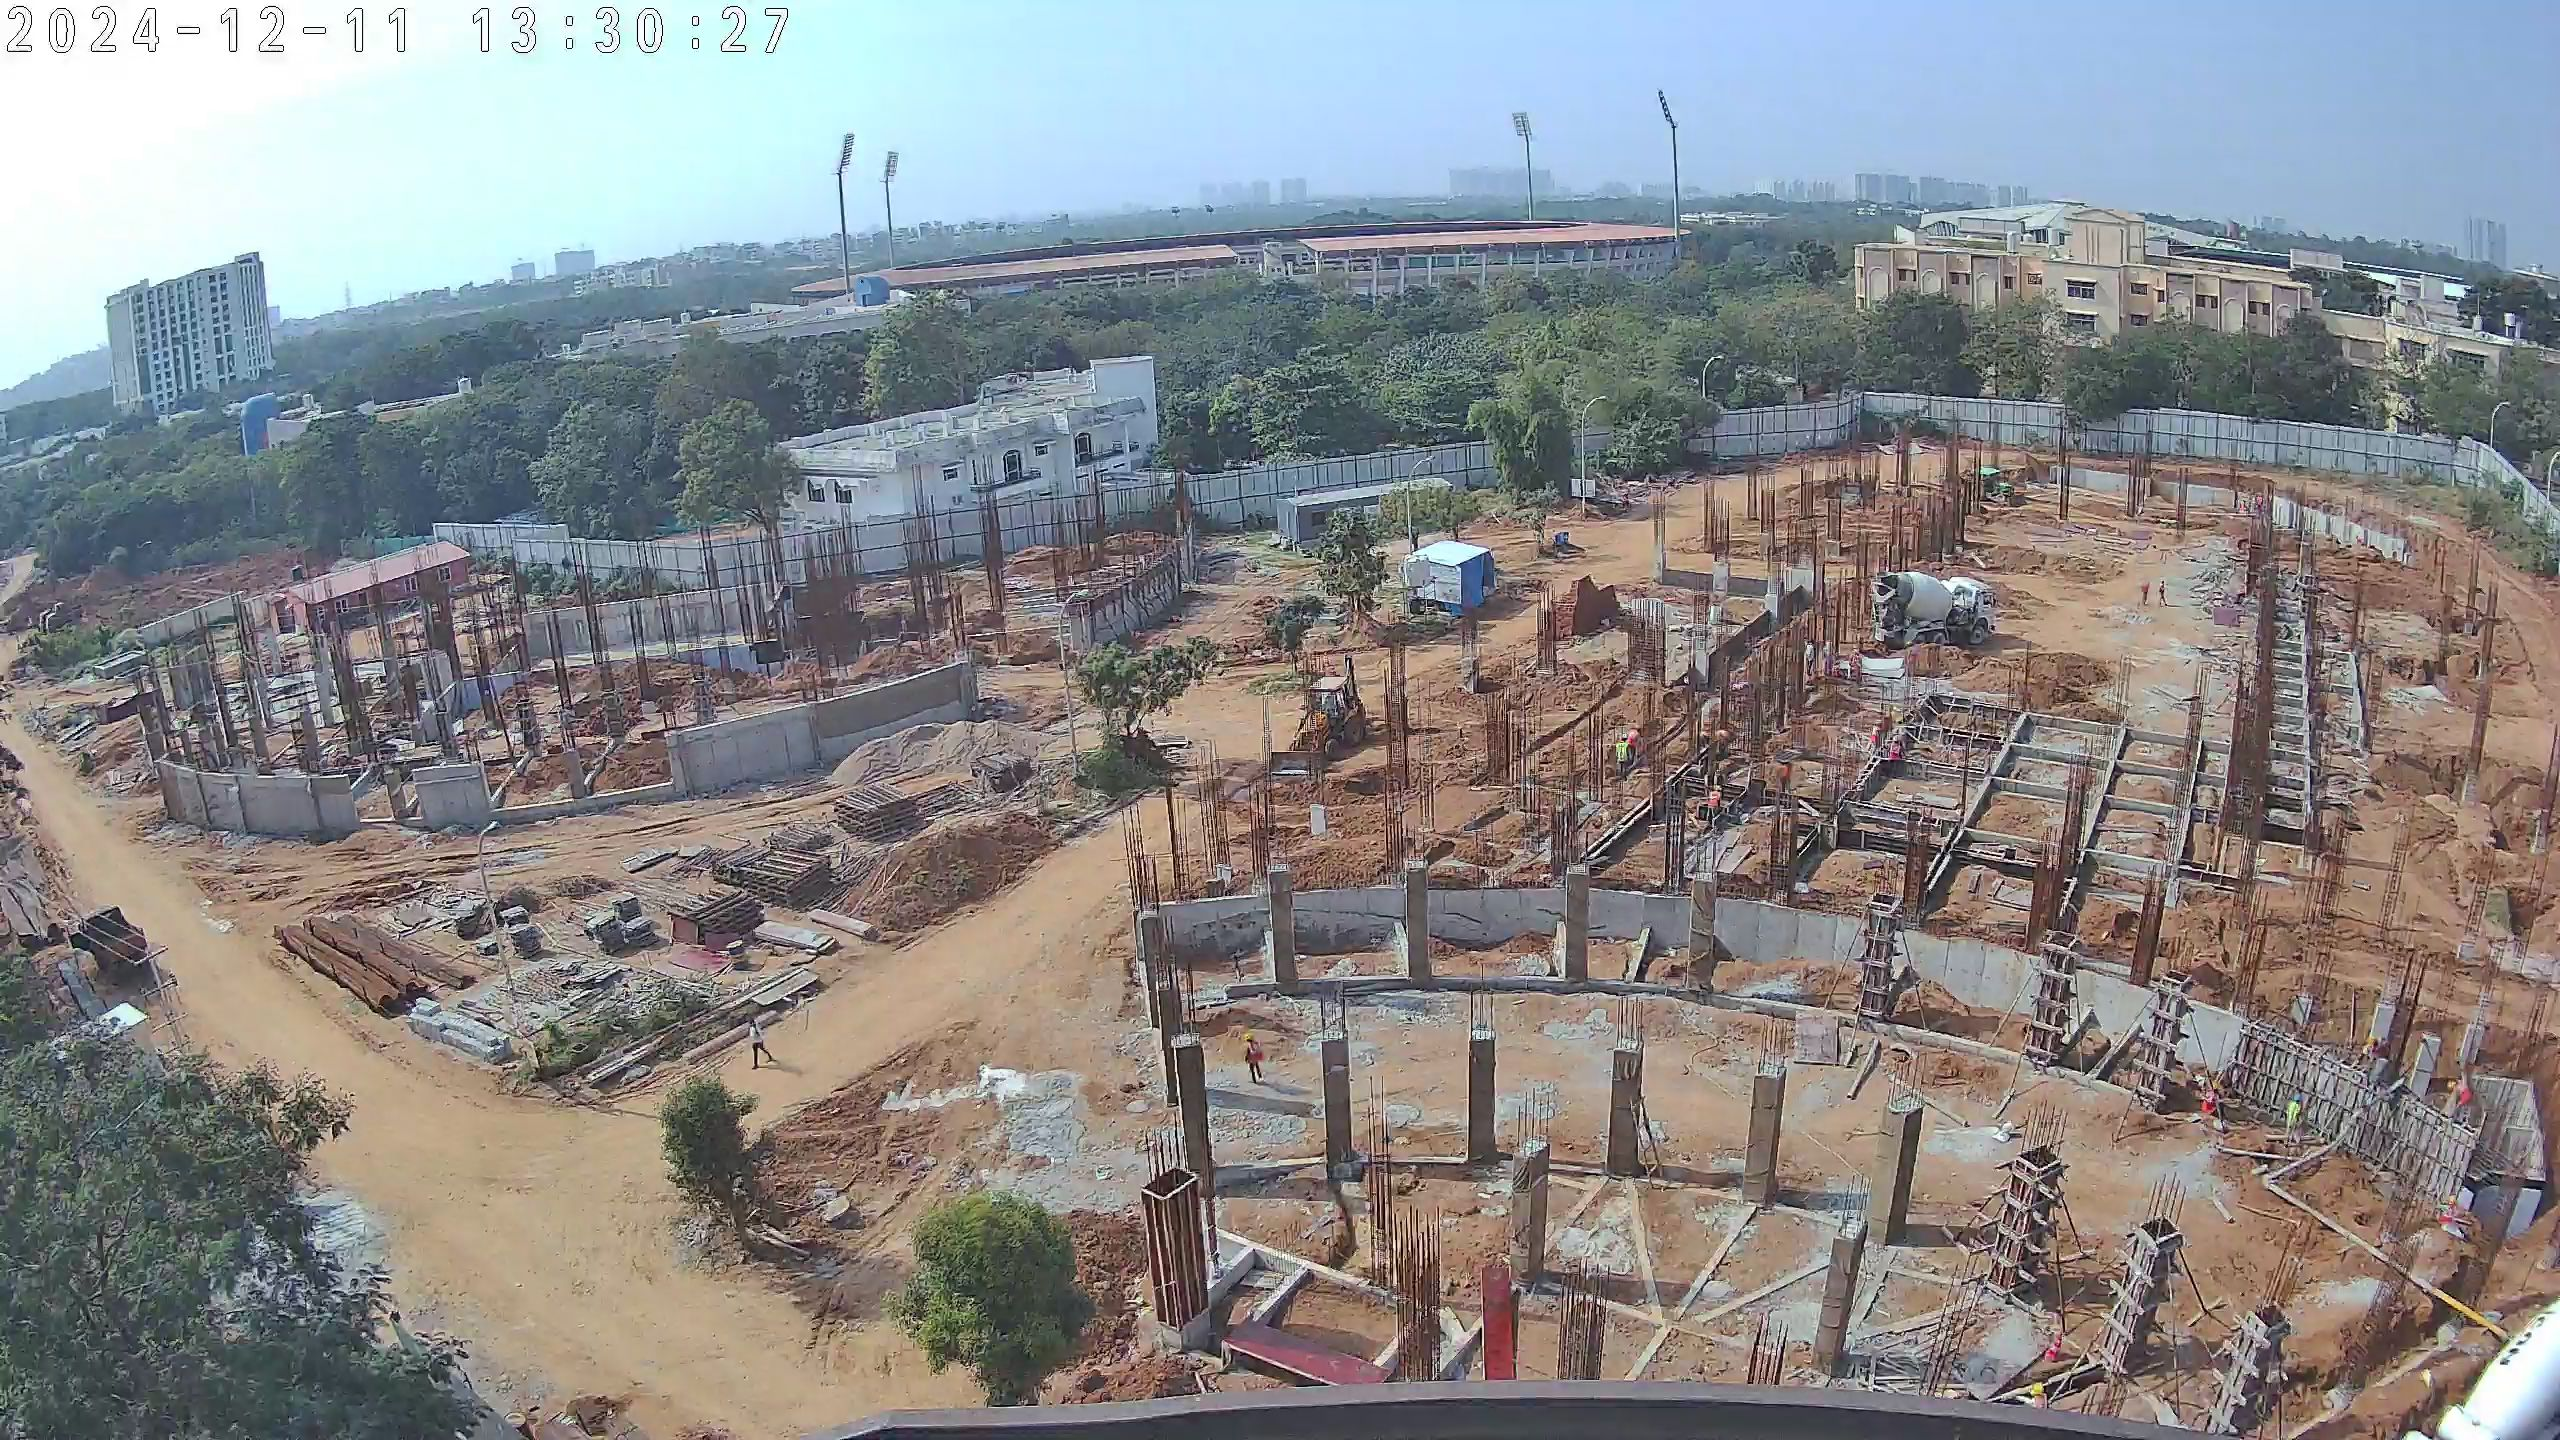bulldozer: (1264, 672, 1370, 785), (1960, 466, 2023, 508)
truck: (1866, 570, 1995, 662)
worker: (739, 1016, 783, 1077), (2275, 1093, 2306, 1160), (1239, 1029, 1272, 1087), (1699, 781, 1727, 831), (2447, 1074, 2479, 1115), (1766, 760, 1791, 808), (2358, 1030, 2382, 1069), (1864, 714, 1887, 753), (1624, 725, 1643, 772), (1616, 729, 1632, 779), (1800, 635, 1817, 681), (1885, 730, 1905, 768), (2154, 578, 2173, 613), (2137, 579, 2154, 609)
